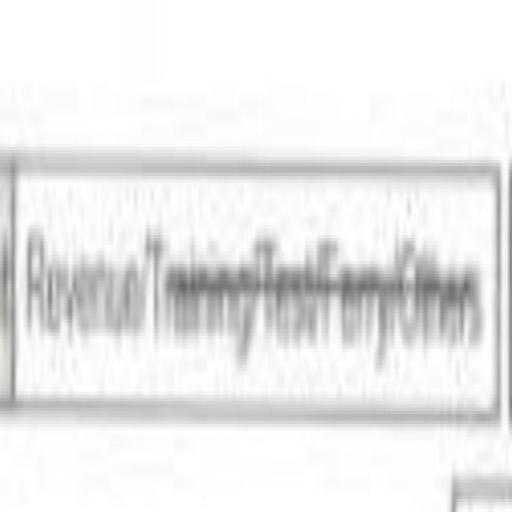check: (19, 122, 143, 450)
